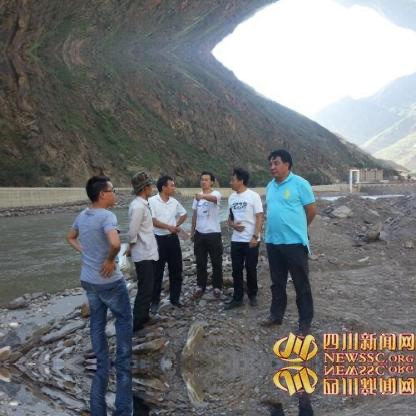No Safety Helmet: (77, 171, 125, 213), (261, 147, 299, 184), (226, 163, 259, 197), (125, 169, 159, 200), (154, 171, 179, 203), (196, 168, 218, 196)
